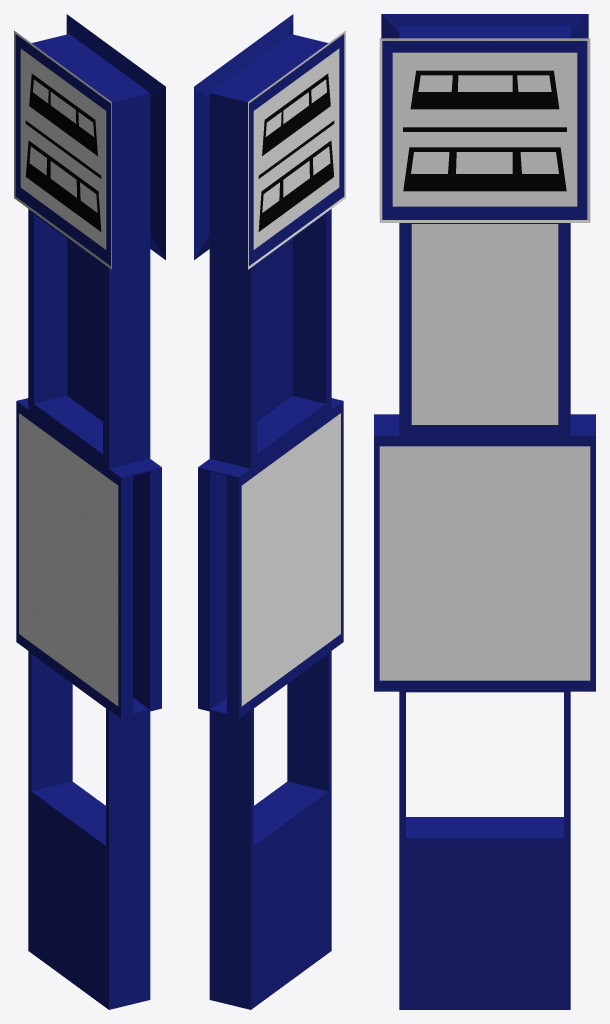
Rendered from BlueBusSign.glb.
The picture shows the model from 3 angles, left to right: view 1: azimuth 30°, elevation 25°; view 2: azimuth 150°, elevation 25°; view 3: azimuth 270°, elevation 25°; orthographic projection. The views are drawn at different scales.
Visible parts, largest first — view 1: Cube; view 2: Cube; view 3: Cube.
Part boxes in pixels (x1,y1,x2,y2): Cube: (14,14,165,1009); Cube: (194,14,345,1009); Cube: (374,14,595,1009).
Bounding box in the file's own units: 0.7608 × 12.54 × 2.59.
